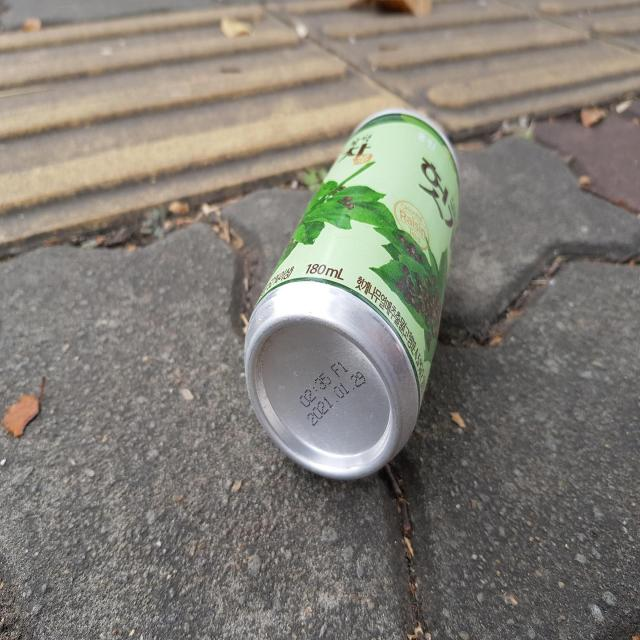can: (245, 108, 460, 479)
